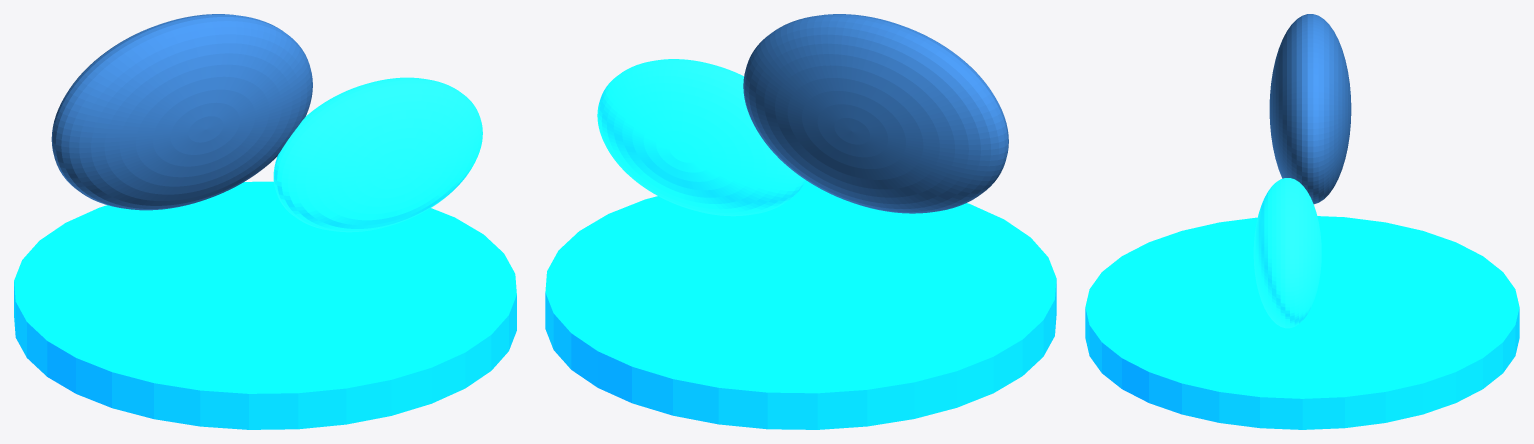
File: news_chat_bubbles.glb
3 renders of one model, left to right at view 1: azimuth 30°, elevation 25°; view 2: azimuth 150°, elevation 25°; view 3: azimuth 270°, elevation 25°, orthographic. The views are drawn at different scales.
Parts seen in each view (by area): view 1: 09_12_Popular_News_Chat_Bubbles_ROOT_base, 09_12_Popular_News_Chat_Bubbles_part_01, 09_12_Popular_News_Chat_Bubbles_part_02; view 2: 09_12_Popular_News_Chat_Bubbles_ROOT_base, 09_12_Popular_News_Chat_Bubbles_part_01, 09_12_Popular_News_Chat_Bubbles_part_02; view 3: 09_12_Popular_News_Chat_Bubbles_ROOT_base, 09_12_Popular_News_Chat_Bubbles_part_01, 09_12_Popular_News_Chat_Bubbles_part_02.
Part boxes in pixels (x1,y1,x2,y2): 09_12_Popular_News_Chat_Bubbles_ROOT_base: (14,181,516,429); 09_12_Popular_News_Chat_Bubbles_part_01: (51,14,312,210); 09_12_Popular_News_Chat_Bubbles_part_02: (273,77,482,232); 09_12_Popular_News_Chat_Bubbles_ROOT_base: (545,180,1056,429); 09_12_Popular_News_Chat_Bubbles_part_01: (743,14,1008,213); 09_12_Popular_News_Chat_Bubbles_part_02: (597,59,805,216); 09_12_Popular_News_Chat_Bubbles_ROOT_base: (1085,216,1519,429); 09_12_Popular_News_Chat_Bubbles_part_01: (1269,14,1351,204); 09_12_Popular_News_Chat_Bubbles_part_02: (1253,178,1321,328).
Size of the model in its own units: 0.76 by 0.5301 by 0.76.
